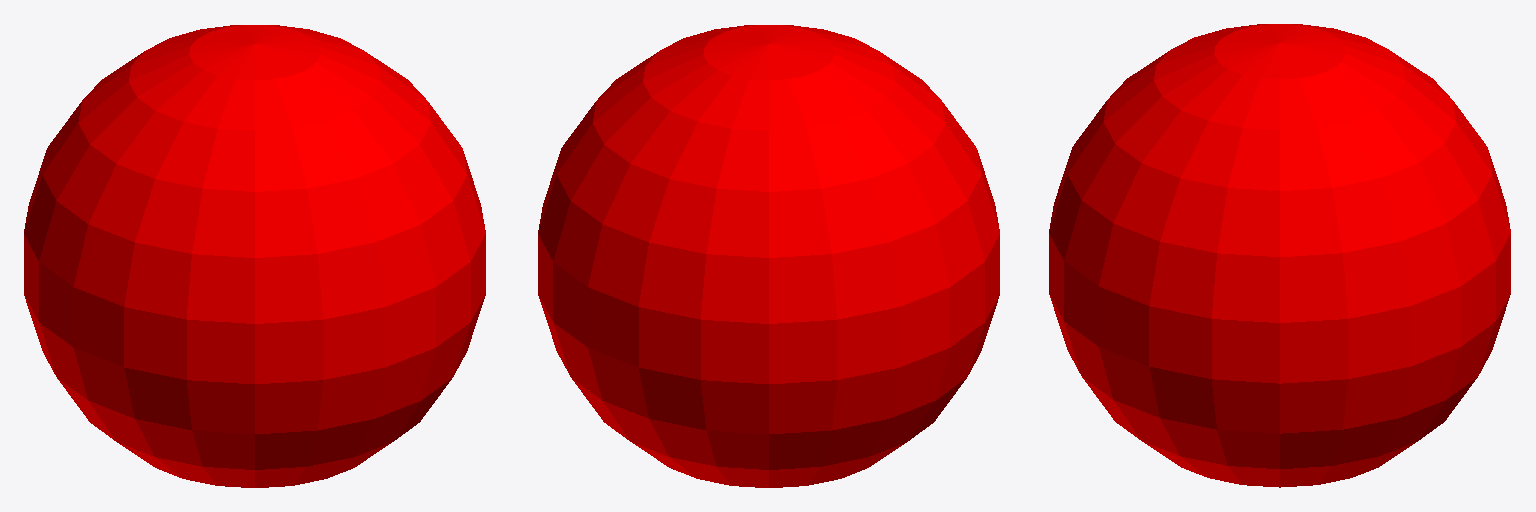
File: hongqiu.obj
3 renders of one model, left to right at view 1: azimuth 30°, elevation 25°; view 2: azimuth 150°, elevation 25°; view 3: azimuth 270°, elevation 25°, orthographic.
Visible parts, largest first — view 1: hongqiu; view 2: hongqiu; view 3: hongqiu.
Part boxes in pixels (x1,y1,x2,y2): hongqiu: (24, 25, 485, 487); hongqiu: (538, 25, 999, 487); hongqiu: (1049, 24, 1510, 487).
Size of the model in its own units: 0.1476 by 0.15 by 0.1481.